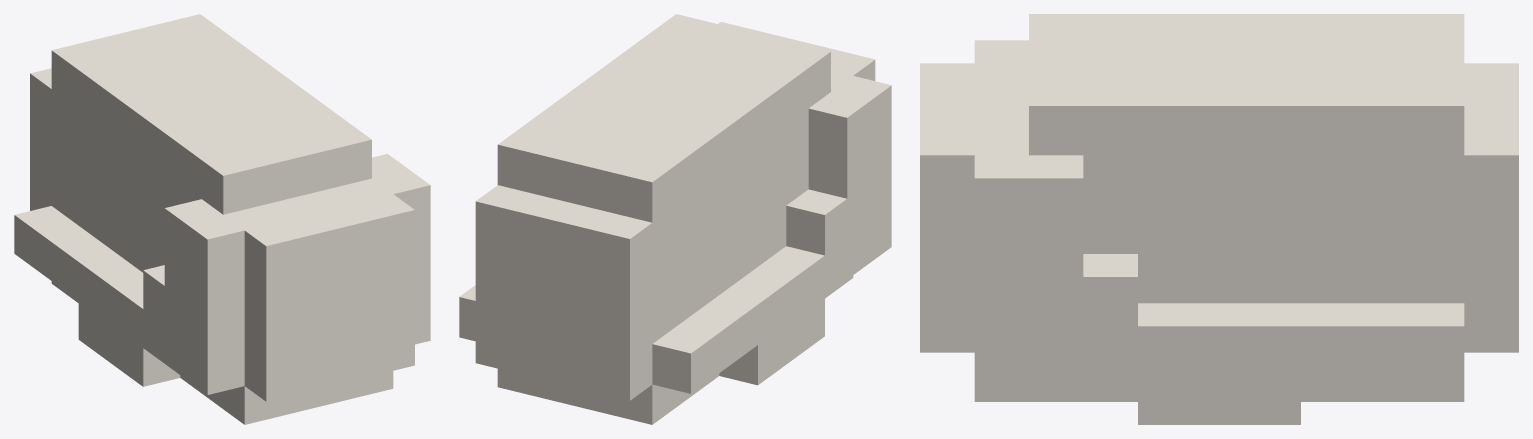
Rendered from seagull__body.glb.
3 renders of one model, left to right at view 1: azimuth 30°, elevation 25°; view 2: azimuth 150°, elevation 25°; view 3: azimuth 270°, elevation 25°, orthographic. The views are drawn at different scales.
Parts seen in each view (by area): view 1: seagull__body; view 2: seagull__body; view 3: seagull__body.
Boxes of the visible parts, left/top/right/bottom form: seagull__body: left=14, top=14, right=430, bottom=424; seagull__body: left=459, top=14, right=891, bottom=424; seagull__body: left=920, top=14, right=1518, bottom=424.
Bounding box in the file's own units: 0.6 × 0.6 × 1.1.
Materials: 1 (1 with a texture image).
